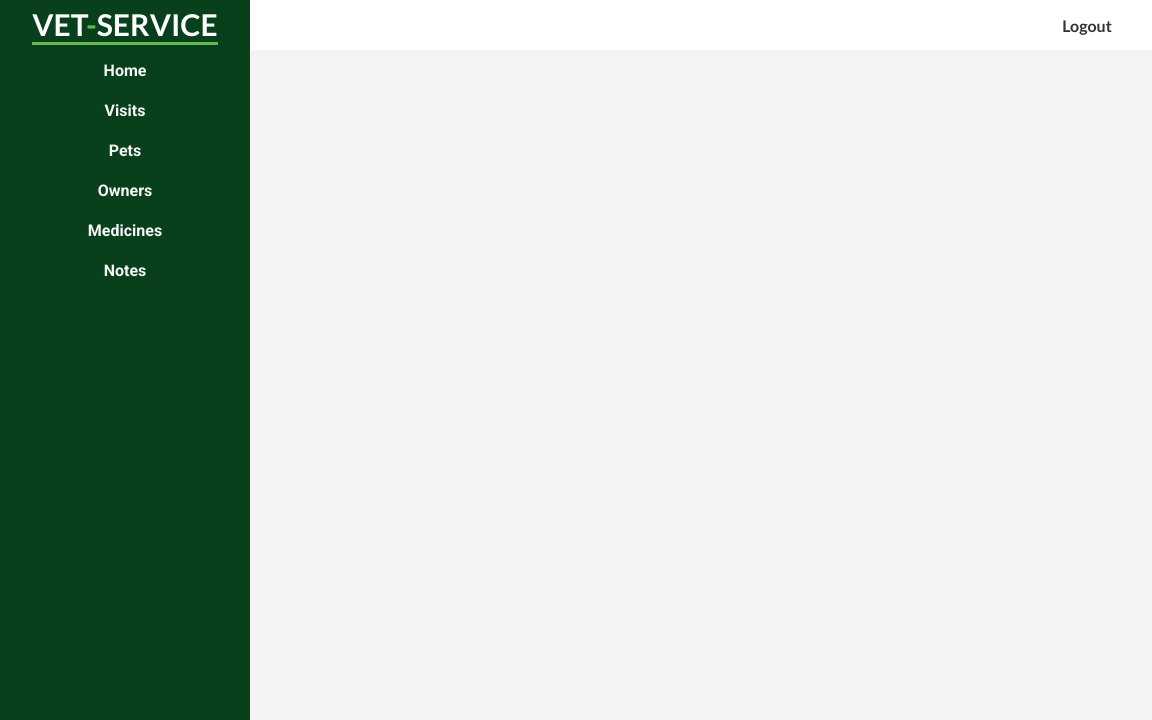
Test: <Dashboard /> › changes panels on clicking links on sidepanel › redirects to visits panel
Click the link with test id "visits-id".
click(125, 110)  # box [105, 100, 145, 120]
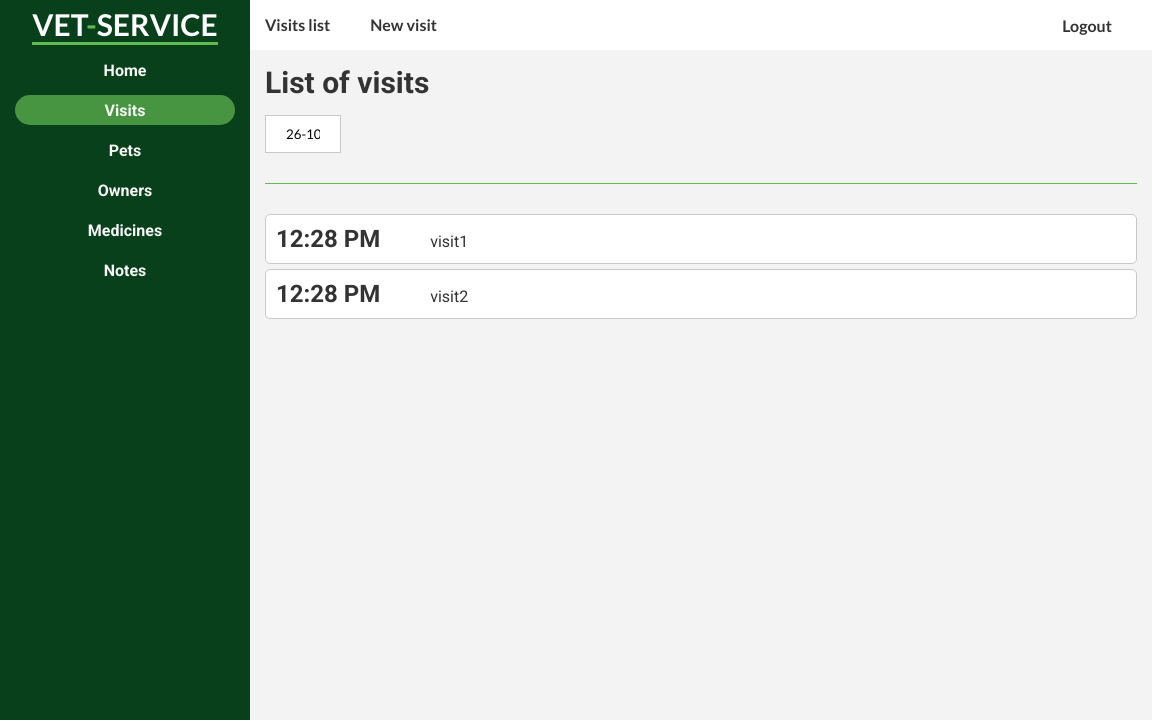
Check: the link with test id "visits-list-id" is shown, box [265, 15, 330, 34]
Check: the link with test id "new-visit-id" is shown, box [370, 15, 437, 34]
